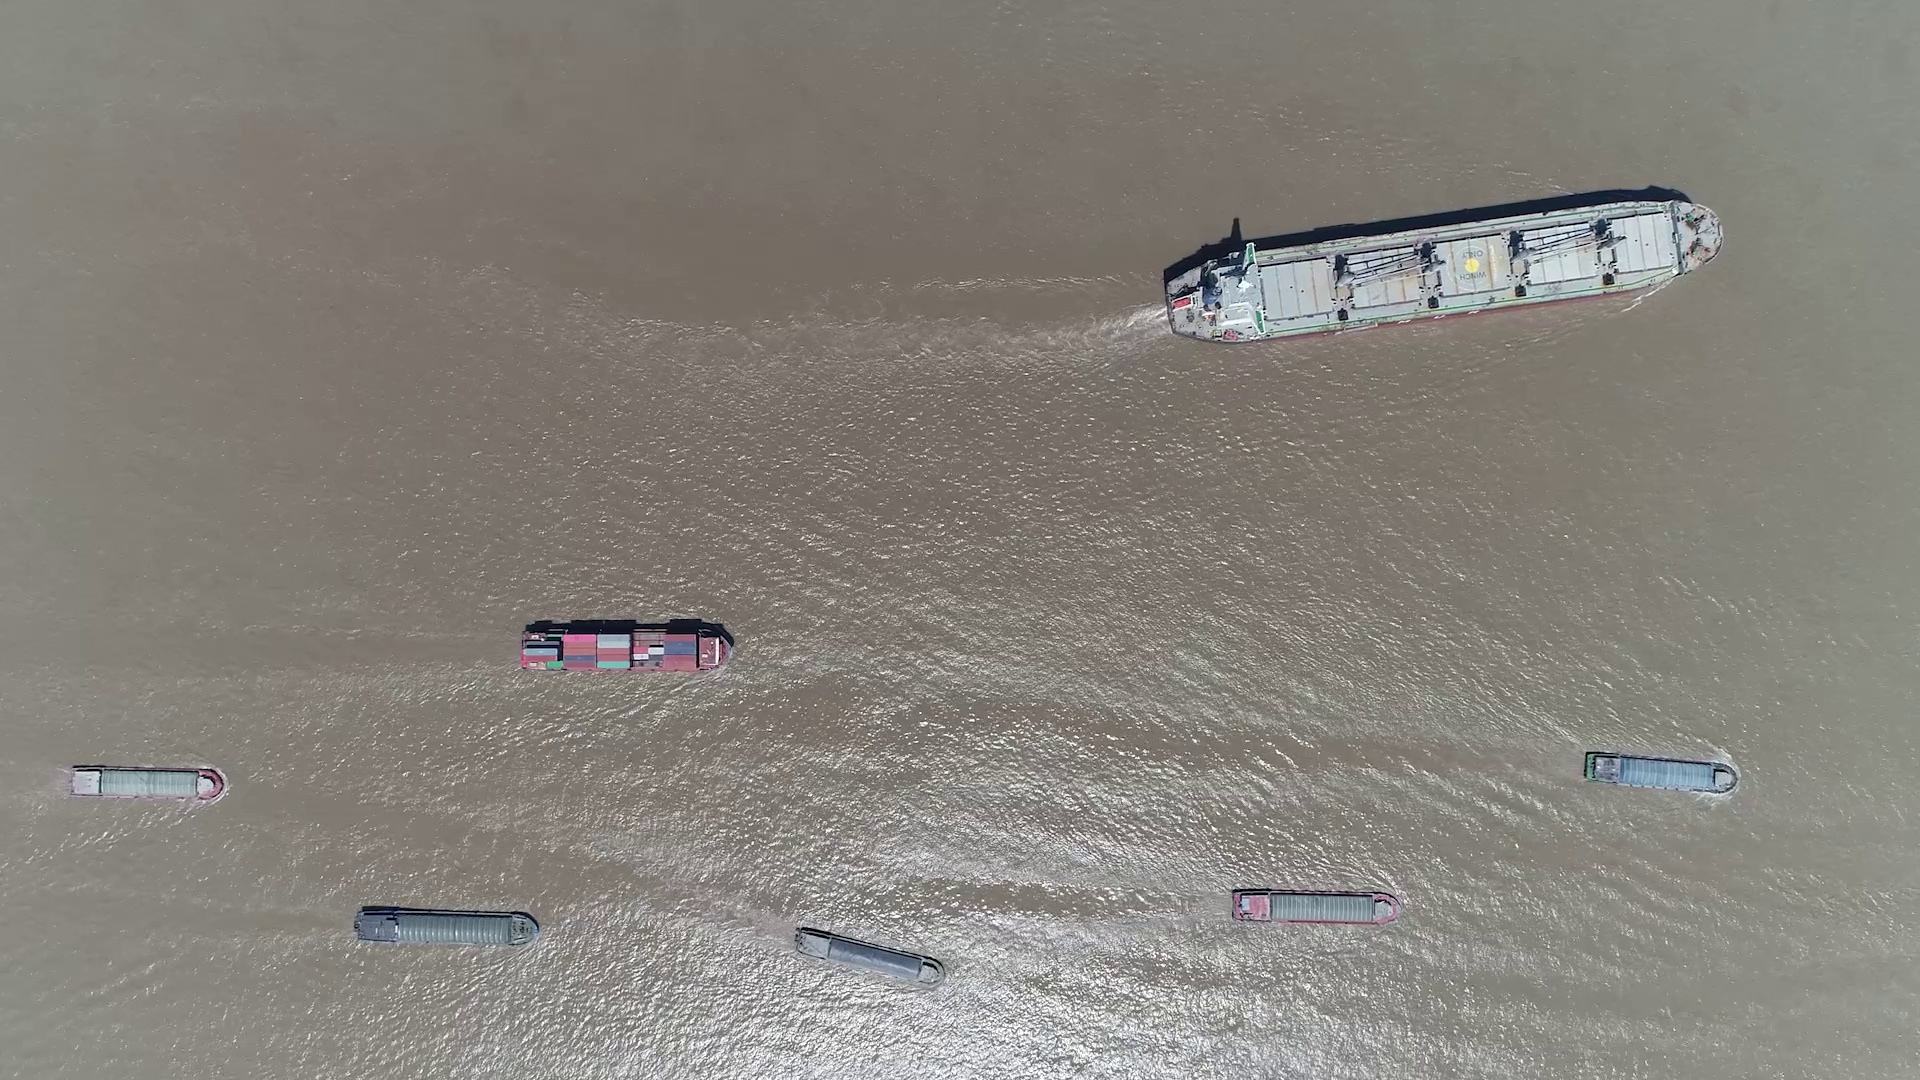ship: (1160, 198, 1722, 342), (520, 625, 733, 673), (793, 926, 942, 984), (353, 905, 537, 947), (1230, 889, 1400, 926), (1586, 753, 1737, 794), (69, 765, 225, 800)
